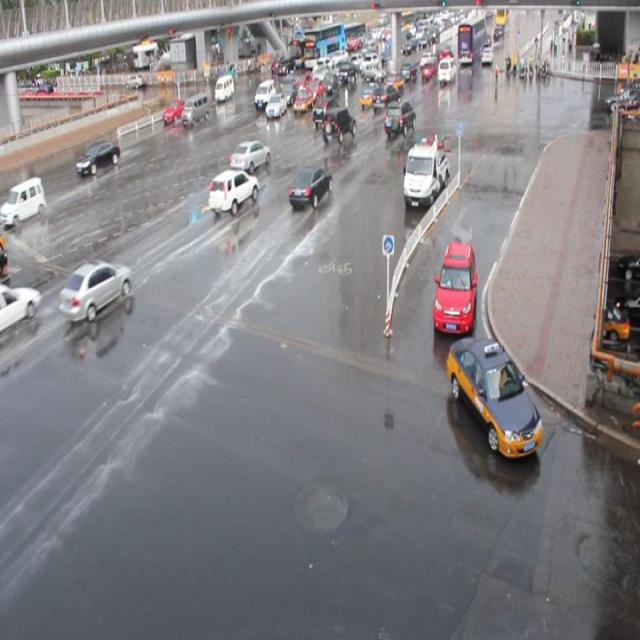bus: (401, 134, 447, 203)
car: (445, 334, 542, 458), (56, 258, 132, 322), (431, 240, 476, 332), (208, 168, 259, 215), (288, 164, 332, 208), (1, 284, 40, 330), (76, 140, 120, 176), (229, 140, 270, 172), (321, 107, 356, 144), (383, 101, 415, 136), (371, 82, 399, 112), (312, 97, 339, 125), (163, 98, 188, 122), (359, 82, 382, 106), (264, 90, 286, 115), (292, 86, 312, 110), (305, 75, 324, 98), (279, 79, 298, 101), (292, 70, 310, 91)
truck: (1, 176, 46, 226), (181, 91, 209, 127), (254, 78, 276, 108), (214, 74, 234, 100)
